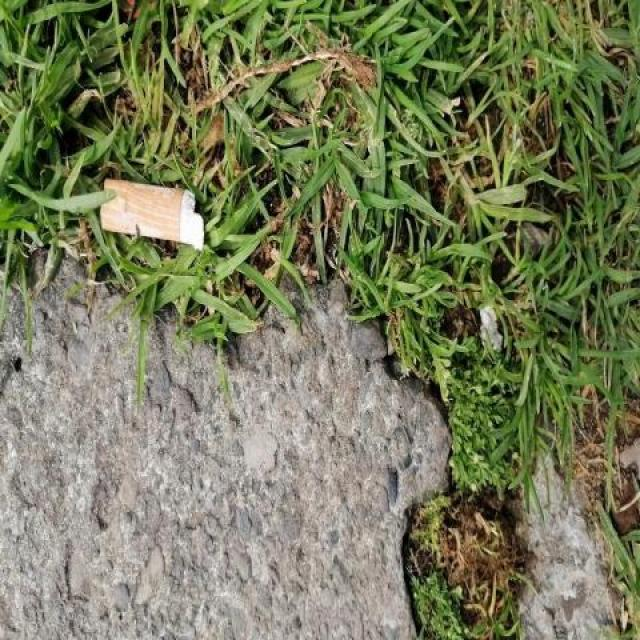non-organic waste: (97, 174, 207, 253)
